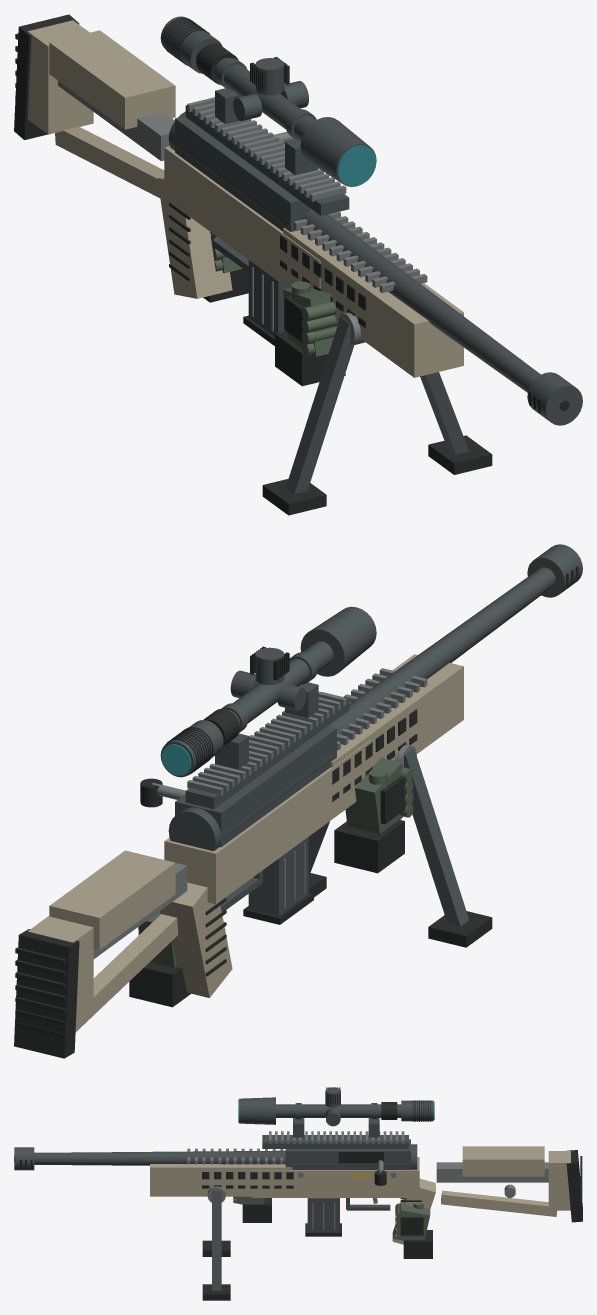
Rendered from atlas.glb.
3 views of the same model, one above another, from view 1: azimuth 30°, elevation 25°; view 2: azimuth 150°, elevation 25°; view 3: azimuth 270°, elevation 25° (orthographic). The views are drawn at different scales.
Visible parts, largest first — view 1: static_batch_0_3, static_batch_0_0, static_batch_0_1, static_batch_138_0, static_batch_0_2, static_batch_195_6, static_batch_195_2, magazine_body, static_batch_138_2, lens_front, turret_elevation, zoom_ring (+2 smaller); view 2: static_batch_0_3, static_batch_0_0, static_batch_0_2, static_batch_138_0, static_batch_0_1, static_batch_195_2, static_batch_195_6, magazine_body, static_batch_182_2, static_batch_138_2, turret_elevation, lens_rear (+3 smaller); view 3: static_batch_0_3, static_batch_0_0, static_batch_138_0, static_batch_0_2, static_batch_0_1, magazine_body, static_batch_182_2, static_batch_182_6, static_batch_195_2, static_batch_138_2, zoom_ring, turret_elevation.
Part boxes in pixels (left/top/right/bottom): static_batch_0_3: left=27, top=20, right=463, bottom=377; static_batch_0_0: left=168, top=105, right=582, bottom=493; static_batch_0_1: left=58, top=81, right=427, bottom=345; static_batch_138_0: left=160, top=16, right=376, bottom=186; static_batch_0_2: left=14, top=14, right=569, bottom=515; static_batch_195_6: left=283, top=281, right=337, bottom=356; static_batch_195_2: left=275, top=296, right=345, bottom=386; magazine_body: left=248, top=260, right=287, bottom=336; static_batch_138_2: left=162, top=17, right=289, bottom=90; lens_front: left=337, top=145, right=376, bottom=186; turret_elevation: left=255, top=58, right=284, bottom=95; zoom_ring: left=196, top=43, right=238, bottom=84; static_batch_0_3: left=27, top=654, right=463, bottom=1031; static_batch_0_0: left=168, top=544, right=582, bottom=926; static_batch_0_2: left=14, top=565, right=578, bottom=1058; static_batch_138_0: left=160, top=606, right=376, bottom=777; static_batch_0_1: left=93, top=668, right=427, bottom=958; static_batch_195_2: left=334, top=777, right=405, bottom=873; static_batch_195_6: left=345, top=757, right=413, bottom=833; magazine_body: left=248, top=837, right=308, bottom=916; static_batch_182_2: left=129, top=932, right=190, bottom=1007; static_batch_138_2: left=165, top=646, right=289, bottom=775; turret_elevation: left=255, top=647, right=284, bottom=684; lens_rear: left=161, top=744, right=191, bottom=775; static_batch_0_3: left=150, top=1146, right=570, bottom=1244; static_batch_0_0: left=14, top=1135, right=417, bottom=1290; static_batch_138_0: left=239, top=1097, right=433, bottom=1137; static_batch_0_2: left=14, top=1150, right=582, bottom=1300; static_batch_0_1: left=187, top=1131, right=548, bottom=1203; magazine_body: left=307, top=1198, right=339, bottom=1232; static_batch_182_2: left=400, top=1217, right=432, bottom=1258; static_batch_182_6: left=394, top=1202, right=430, bottom=1240; static_batch_195_2: left=242, top=1198, right=271, bottom=1222; static_batch_138_2: left=326, top=1087, right=430, bottom=1121; zoom_ring: left=381, top=1102, right=397, bottom=1119; turret_elevation: left=325, top=1087, right=340, bottom=1107.
Size of the model in its own units: 0.295 by 0.4685 by 1.32.
